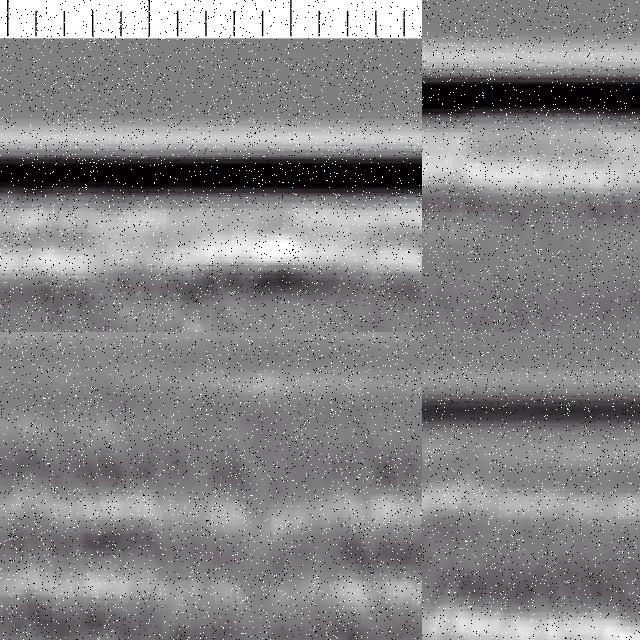loose: (423, 547, 575, 640)
